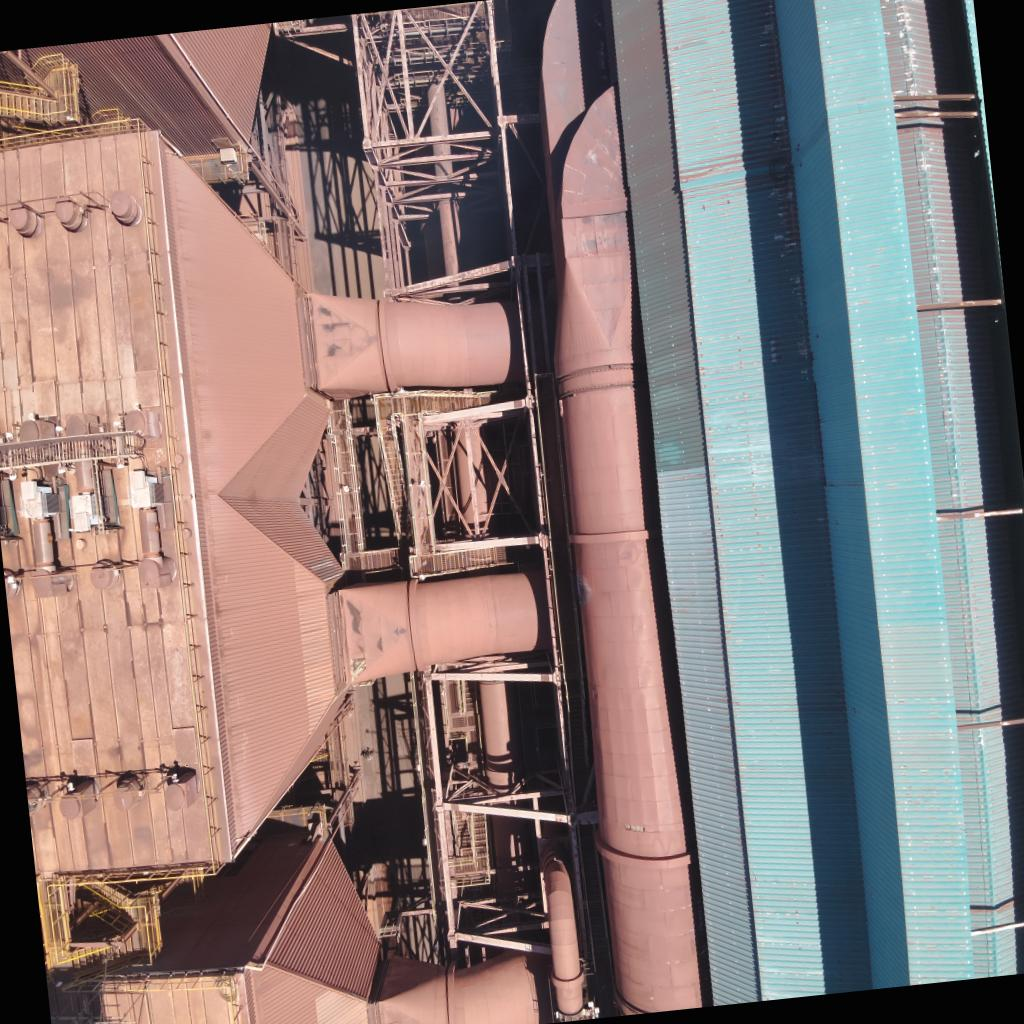Failures: (348, 656, 367, 682), (622, 821, 644, 835)
